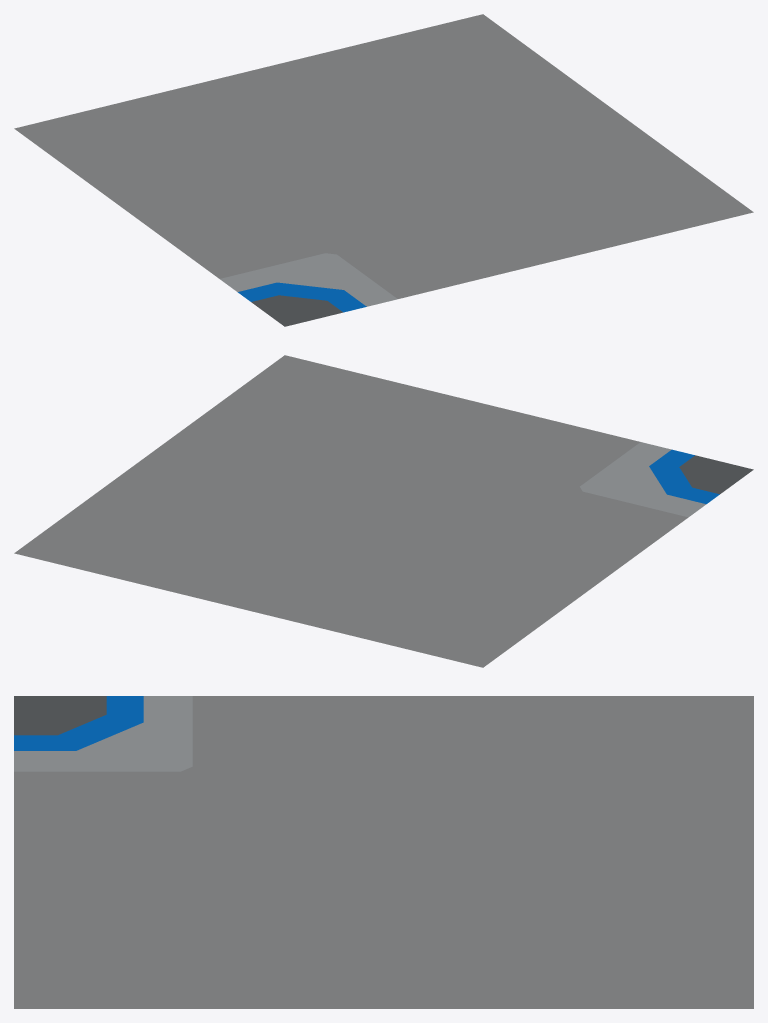
The model's file is Ceiling_type_B_052.fbx.
The picture shows the model from 3 angles, top to bottom: view 1: azimuth 30°, elevation 25°; view 2: azimuth 150°, elevation 25°; view 3: azimuth 270°, elevation 25°; orthographic projection. The views are drawn at different scales.
Visible parts, largest first — view 1: Ceiling_type_B_052; view 2: Ceiling_type_B_052; view 3: Ceiling_type_B_052.
Part boxes in pixels (box(x1,y1,x2,y2)): Ceiling_type_B_052: box(14, 14, 753, 326); Ceiling_type_B_052: box(14, 355, 753, 667); Ceiling_type_B_052: box(14, 696, 753, 1008).
Bounding box in the file's own units: 400 × 400 × 3.5.
